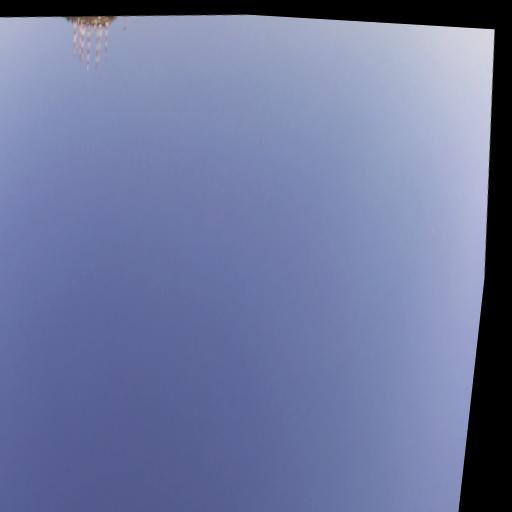drones: (258, 137, 267, 150)
